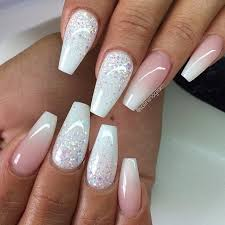nail: (122, 50, 172, 112), (11, 111, 57, 177), (90, 50, 134, 118), (51, 100, 91, 171), (59, 9, 99, 77), (181, 33, 225, 82), (88, 124, 118, 188), (118, 157, 142, 218)
